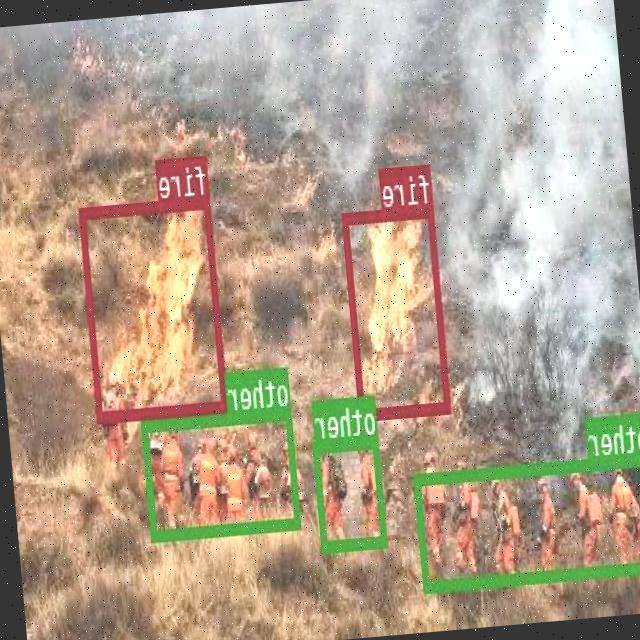fire: (80, 195, 228, 420), (342, 204, 452, 417)
